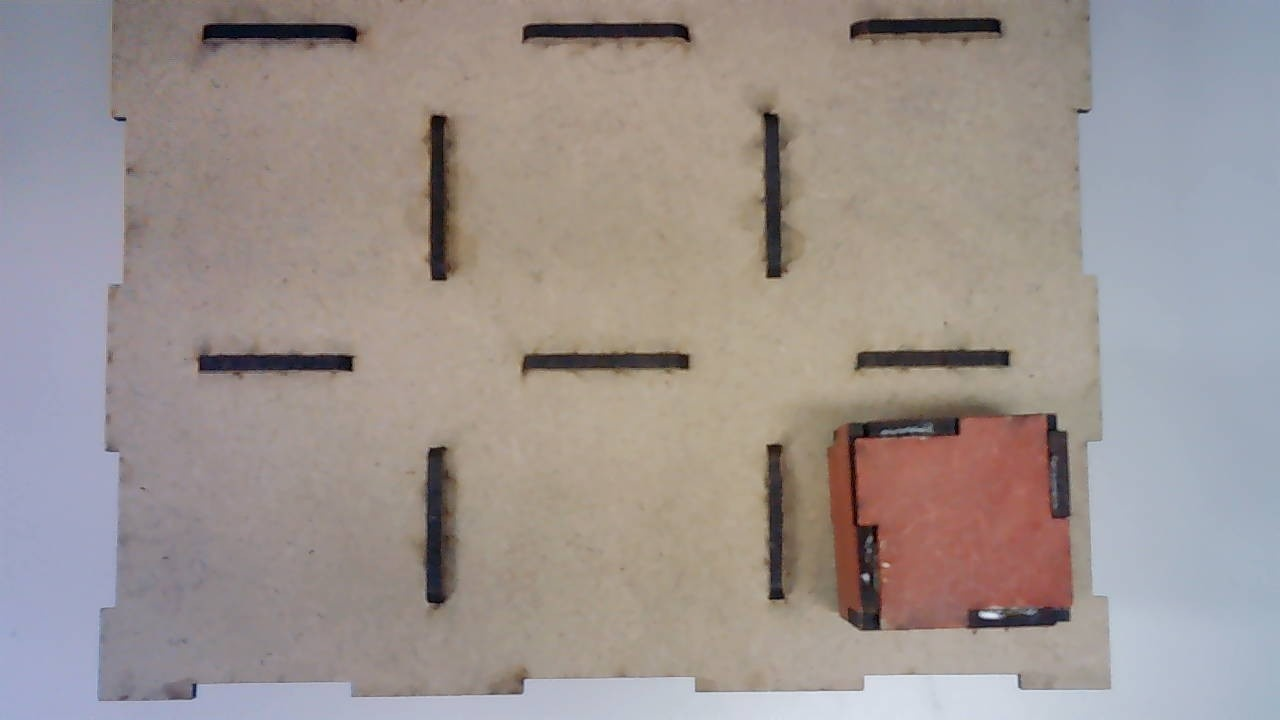red box: (825, 411, 1078, 628)
